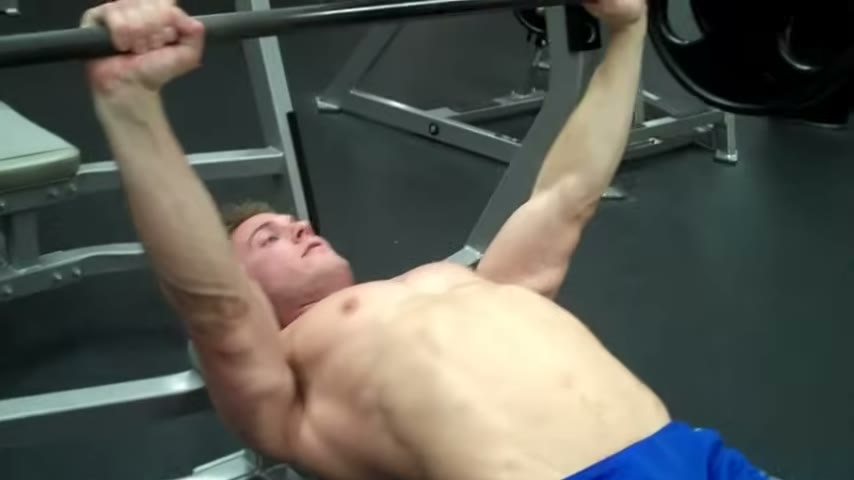barbell_plate_side: (276, 12, 555, 476)
